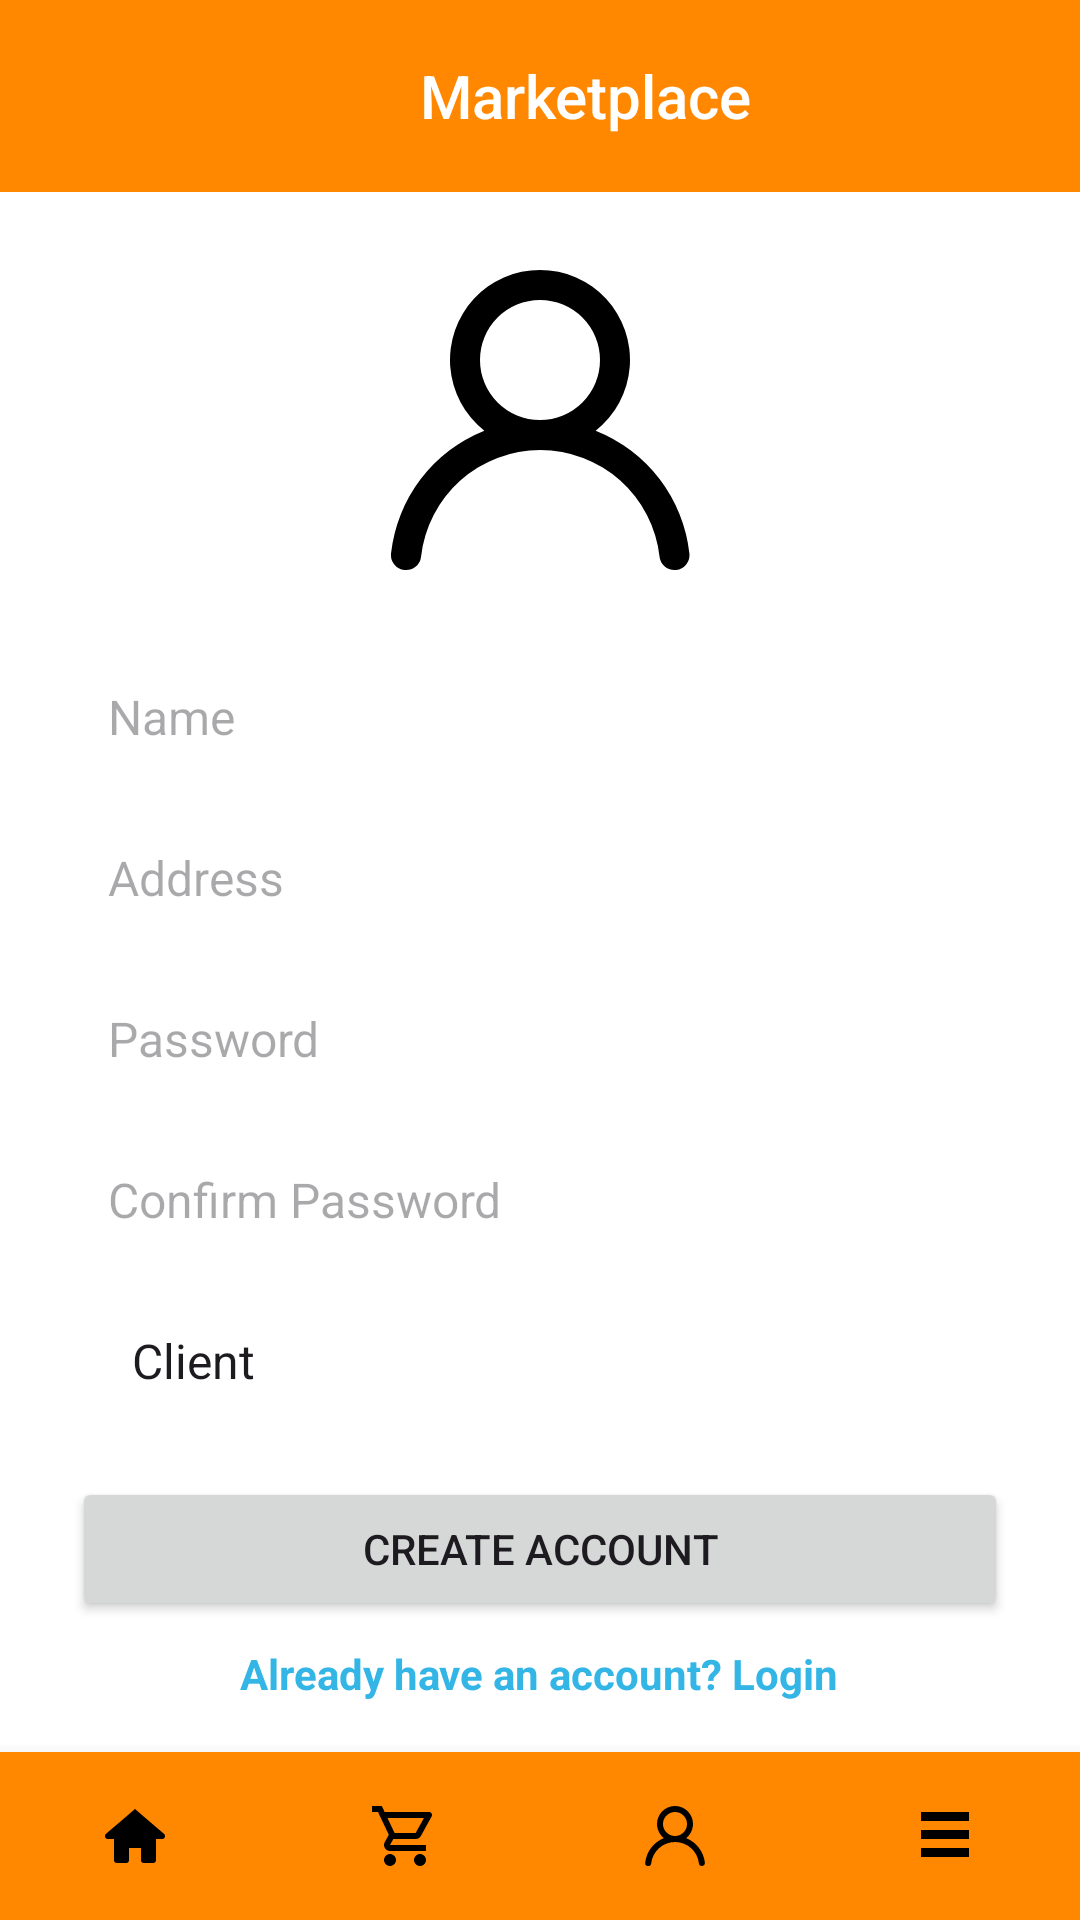

Icons on this 1080x1920 Android screen, each with its box as (x1, y1, x2, y2):
custom login: (391, 270, 690, 570)
